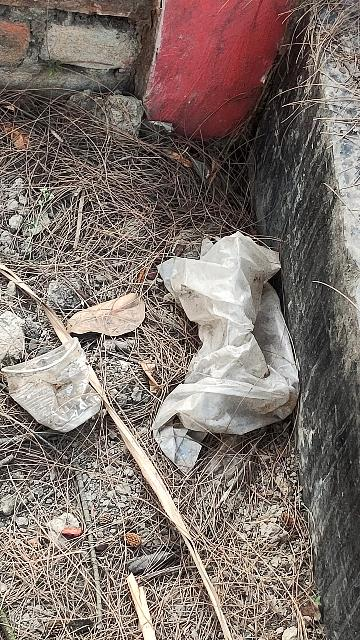polythene: (149, 222, 302, 466)
